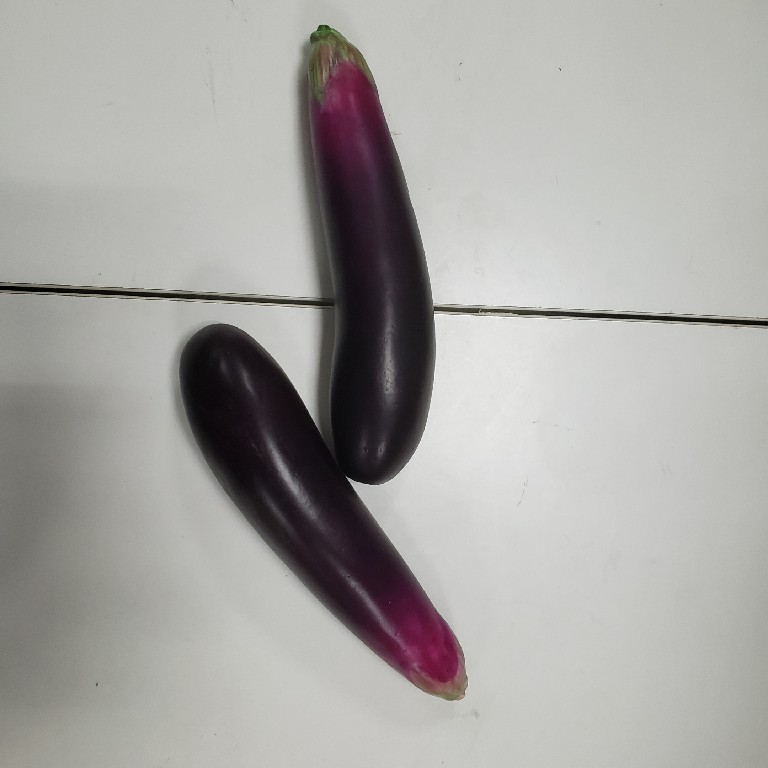fruit_eggplant: (176, 319, 474, 703), (302, 22, 441, 487)
